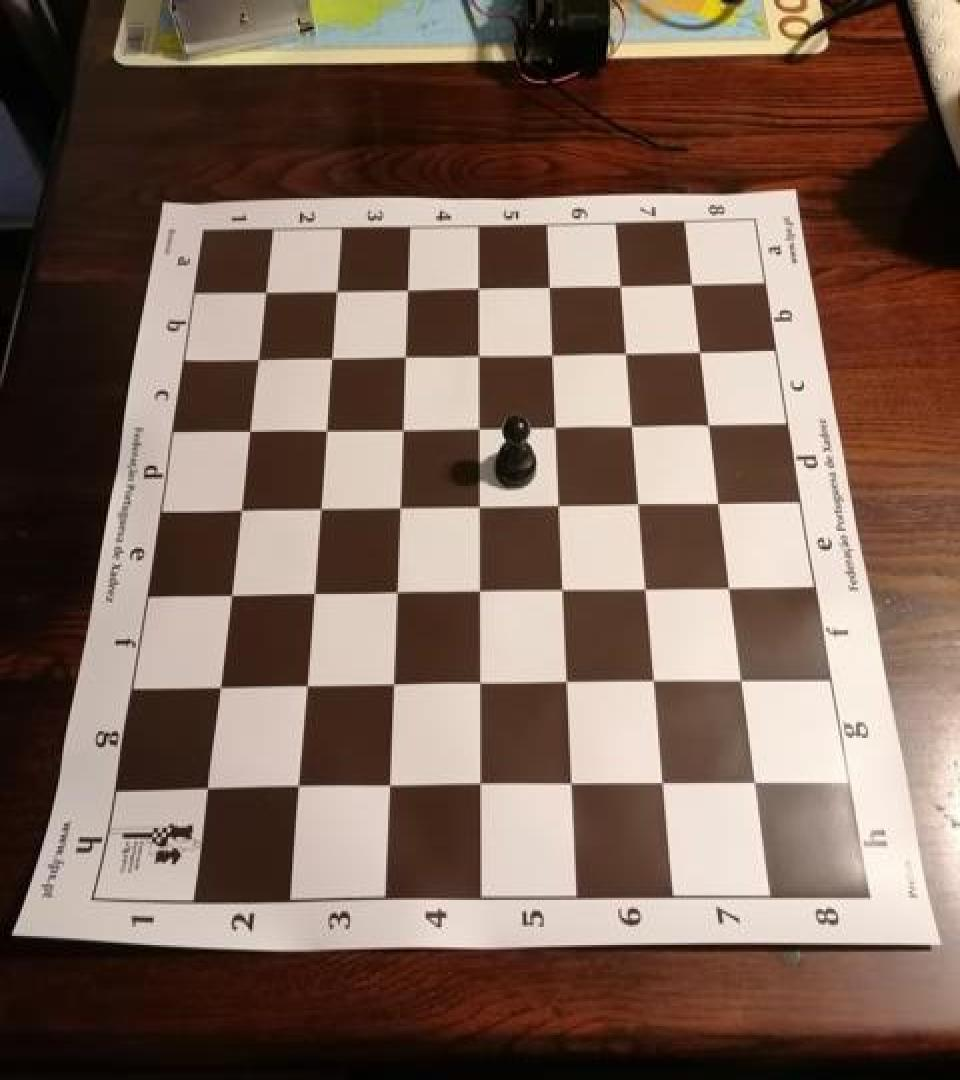xcorner: (464, 571, 496, 608), (380, 572, 412, 609), (729, 661, 761, 698), (679, 266, 711, 302), (534, 268, 566, 304), (463, 270, 495, 306), (391, 271, 423, 307), (320, 272, 352, 308), (248, 274, 280, 310), (687, 333, 719, 369), (612, 334, 644, 370), (537, 335, 569, 371), (463, 336, 495, 372), (388, 338, 420, 374), (314, 338, 346, 374), (240, 340, 272, 376), (697, 405, 729, 441), (618, 406, 650, 442), (541, 407, 573, 443), (463, 408, 495, 444), (386, 410, 418, 446), (309, 410, 341, 446), (232, 412, 264, 448), (706, 484, 738, 520), (625, 485, 657, 521), (544, 486, 576, 522), (463, 487, 495, 523), (383, 488, 415, 524), (303, 490, 335, 526), (223, 490, 255, 526), (717, 569, 749, 605), (632, 569, 664, 605), (548, 570, 580, 606), (296, 574, 328, 610), (213, 575, 245, 611), (640, 662, 672, 698), (552, 664, 584, 700), (464, 664, 496, 700), (376, 665, 408, 701), (289, 666, 321, 702), (202, 667, 234, 703), (742, 763, 774, 799), (649, 764, 681, 800), (557, 765, 589, 801), (464, 765, 496, 801), (373, 766, 405, 802), (281, 767, 313, 803), (190, 767, 222, 803), (607, 267, 639, 302)
